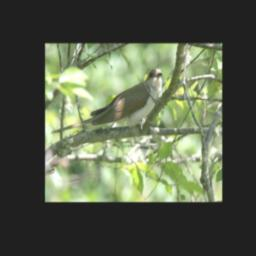Cuckoo: (50, 67, 163, 136)
